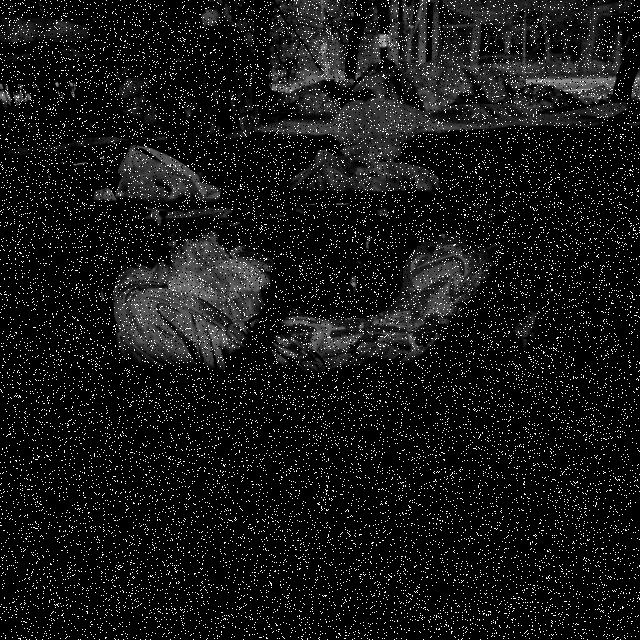Trashcan: (25, 98, 640, 556)
